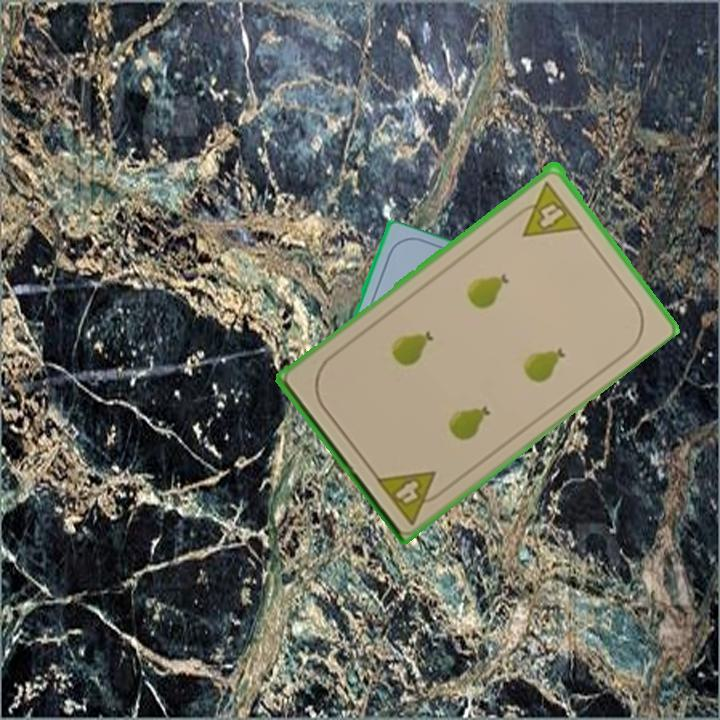4p: (508, 176, 585, 240), (372, 466, 451, 527)
